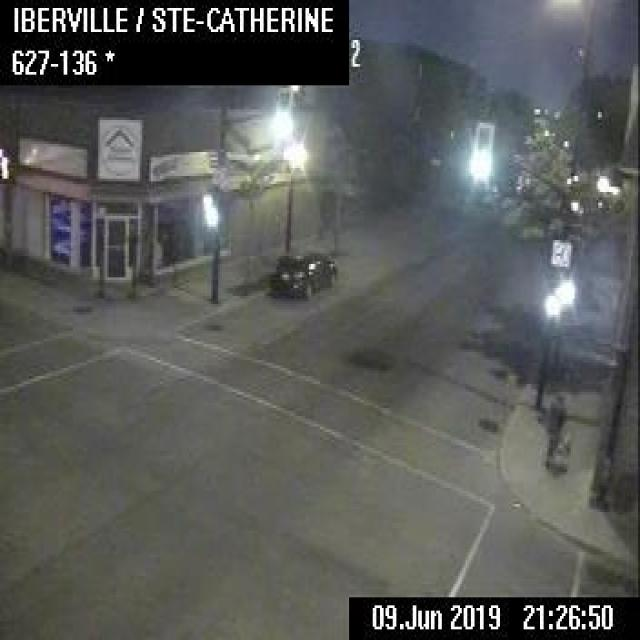pedestrian: (542, 392, 567, 472)
vehicle: (271, 248, 334, 296)
